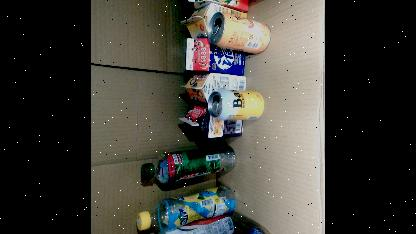Can: (207, 11, 271, 53), (207, 88, 264, 119)
Plastic Bottle: (136, 184, 236, 232), (141, 142, 237, 184), (139, 212, 235, 234)
